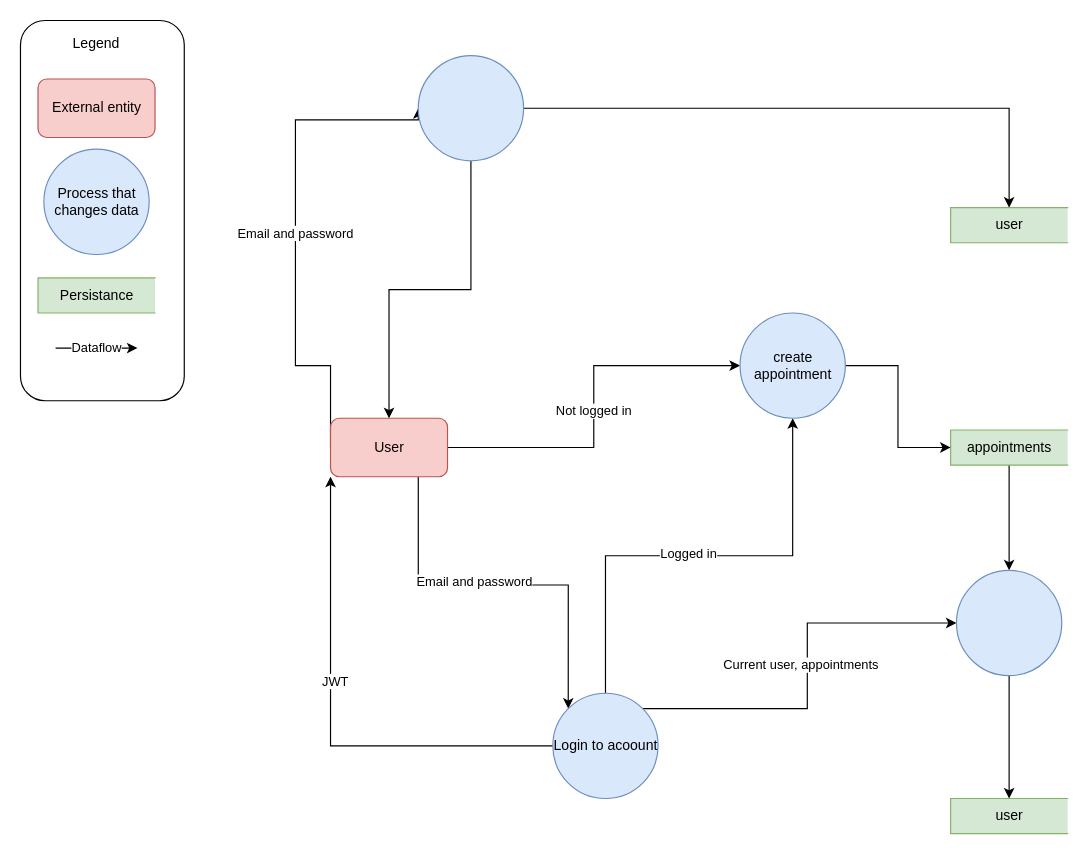
Image size: 1088x854. Some labels were removed from this diagram. Here are the shapes that lost their labels. From the top down, the centre of each, then its label:
At point (470, 107): "Create account".
At point (1008, 622): "view appointments".
